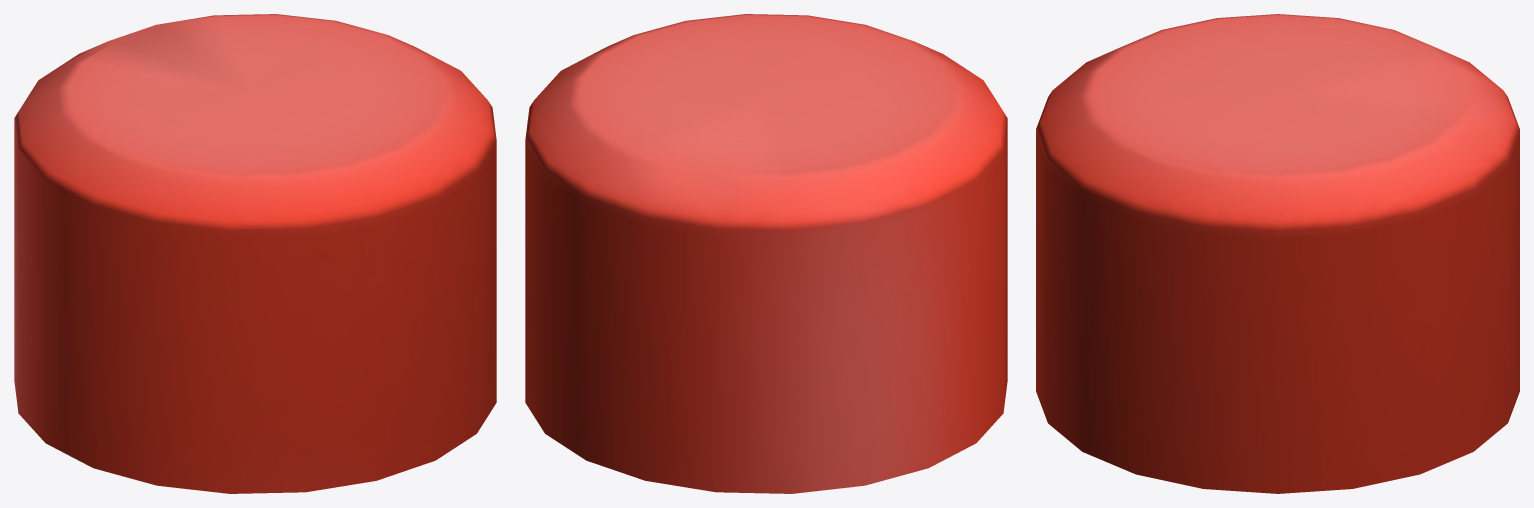
The model's file is CommunityRoomB_BeerPongButtonA.fbx.
3 renders of one model, left to right at view 1: azimuth 30°, elevation 25°; view 2: azimuth 150°, elevation 25°; view 3: azimuth 270°, elevation 25°, orthographic.
Parts seen in each view (by area): view 1: CommunityRoomB_BeerPongButtonA; view 2: CommunityRoomB_BeerPongButtonA; view 3: CommunityRoomB_BeerPongButtonA.
Boxes of the visible parts, x1,y1,x2,y2 form: CommunityRoomB_BeerPongButtonA: (14, 14, 496, 493); CommunityRoomB_BeerPongButtonA: (525, 14, 1007, 493); CommunityRoomB_BeerPongButtonA: (1036, 14, 1519, 493).
Bounding box in the file's own units: 5.24 × 3.55 × 5.24.
